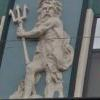Statue: (13, 3, 86, 100)
